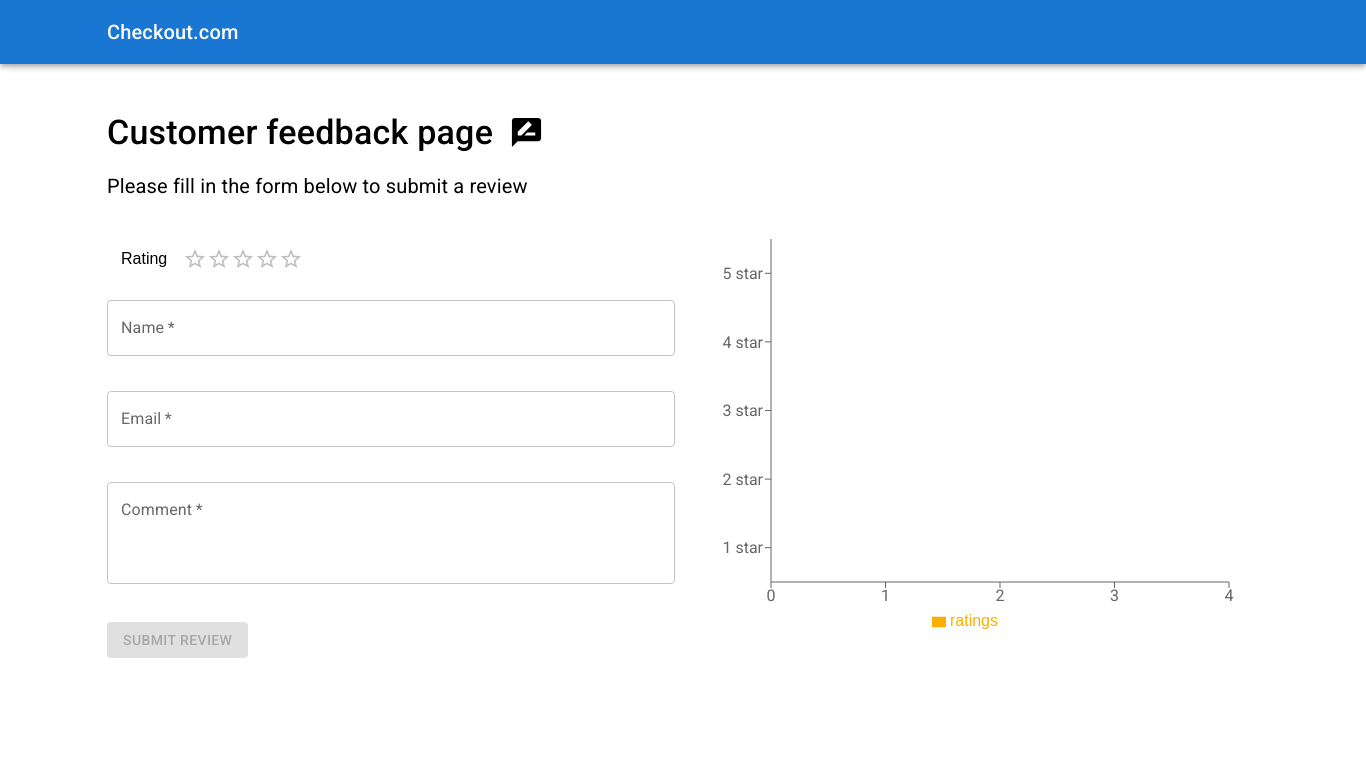
Test case: Customer Feedback Page › should be unable to add a new review on submit with invalid form
// Enter form values.
Type "a" into the field labelled "Name *" at [391, 328], box [107,300,675,356]
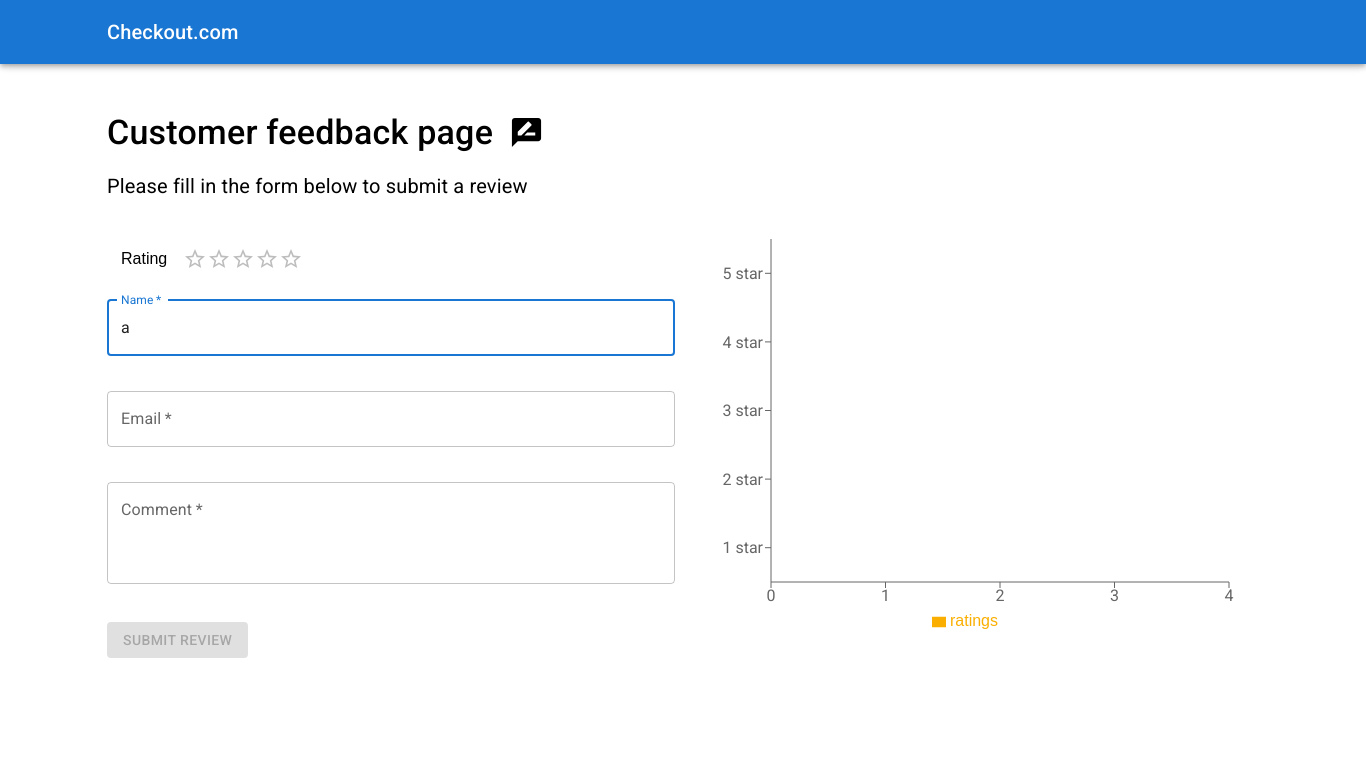
Clear the field labelled "Name *" at [391, 328], box [107,300,675,356]
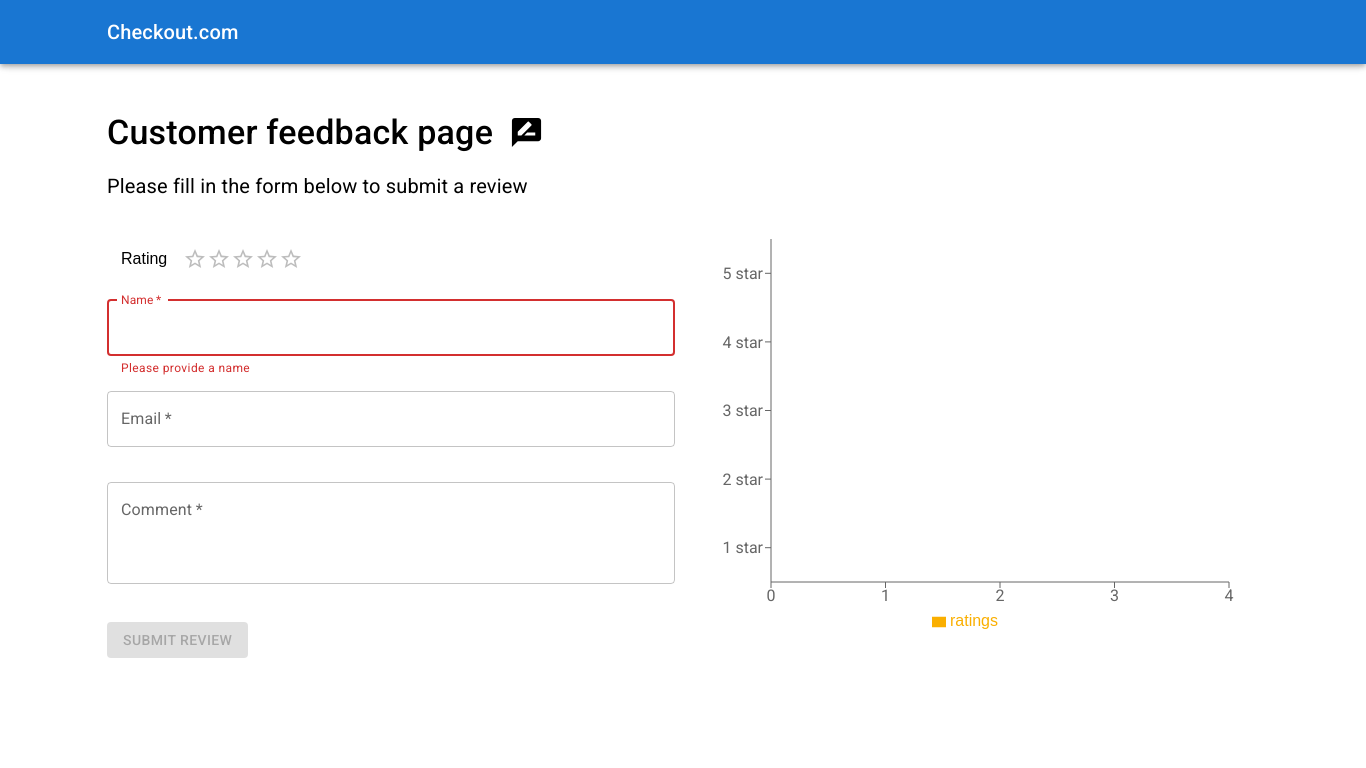
Check: the text "Please provide a name" is shown, box [121,361,250,375]
Type "a" into the field labelled "Email *" at [391, 419], box [107,391,675,447]
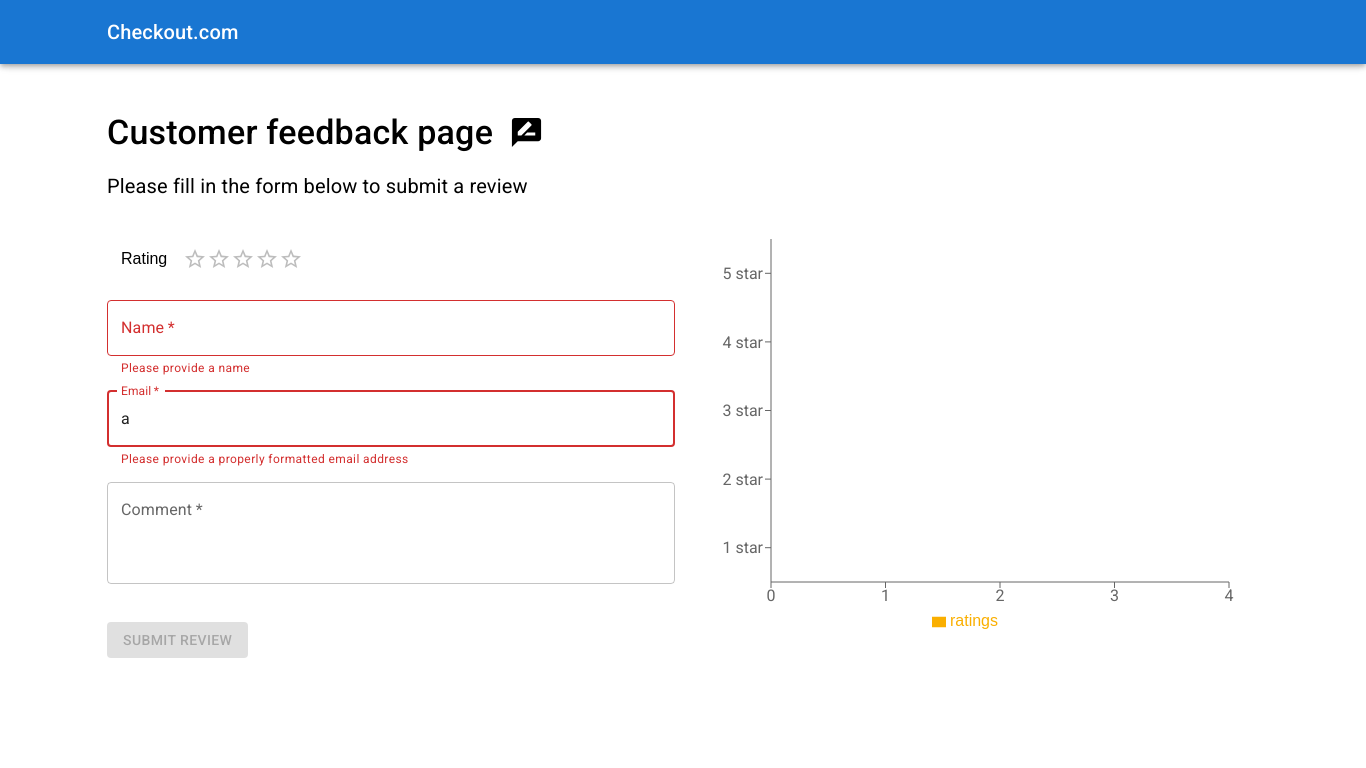
Clear the field labelled "Email *" at [391, 419], box [107,391,675,447]
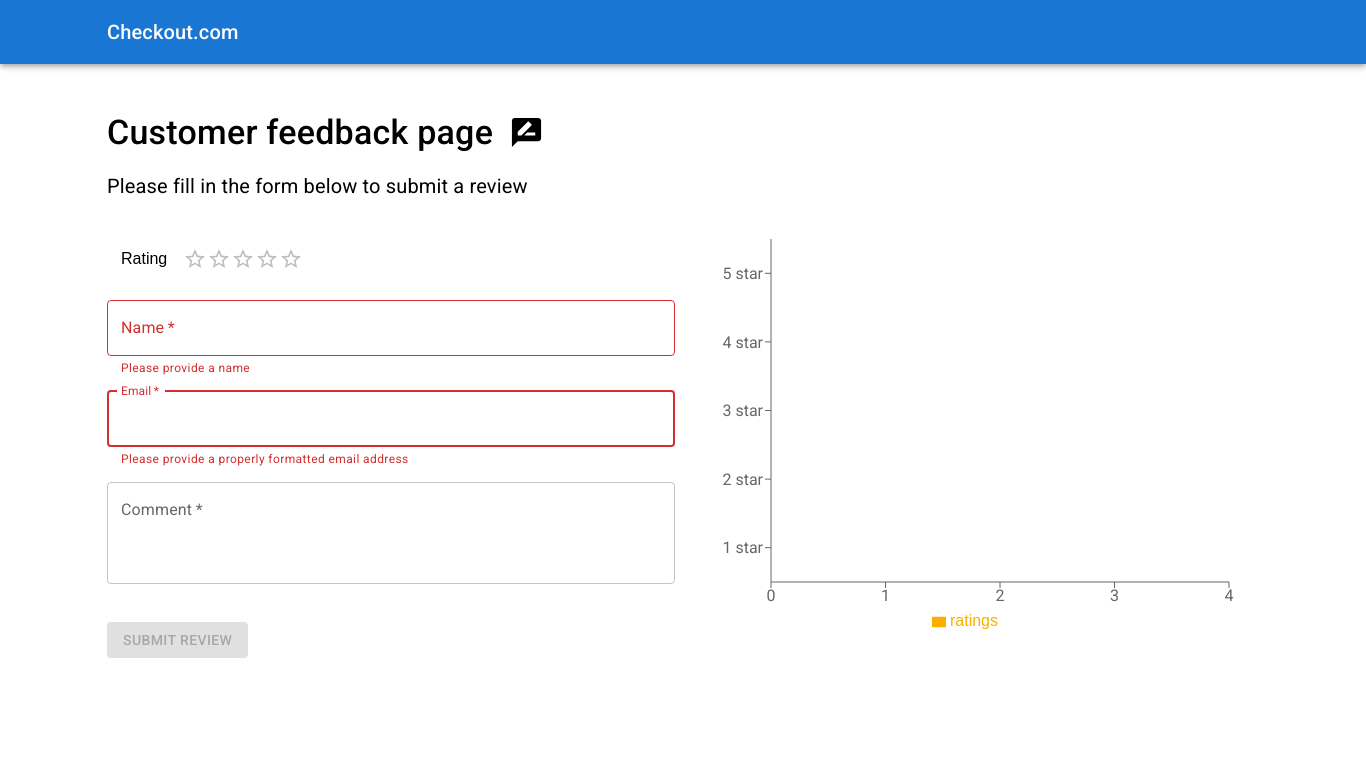
Check: the text "Please provide a properly formatted email address" is shown, box [121,452,409,466]
Type "a" into the text box labelled "Comment *" at [391, 534], box [121,499,661,568]
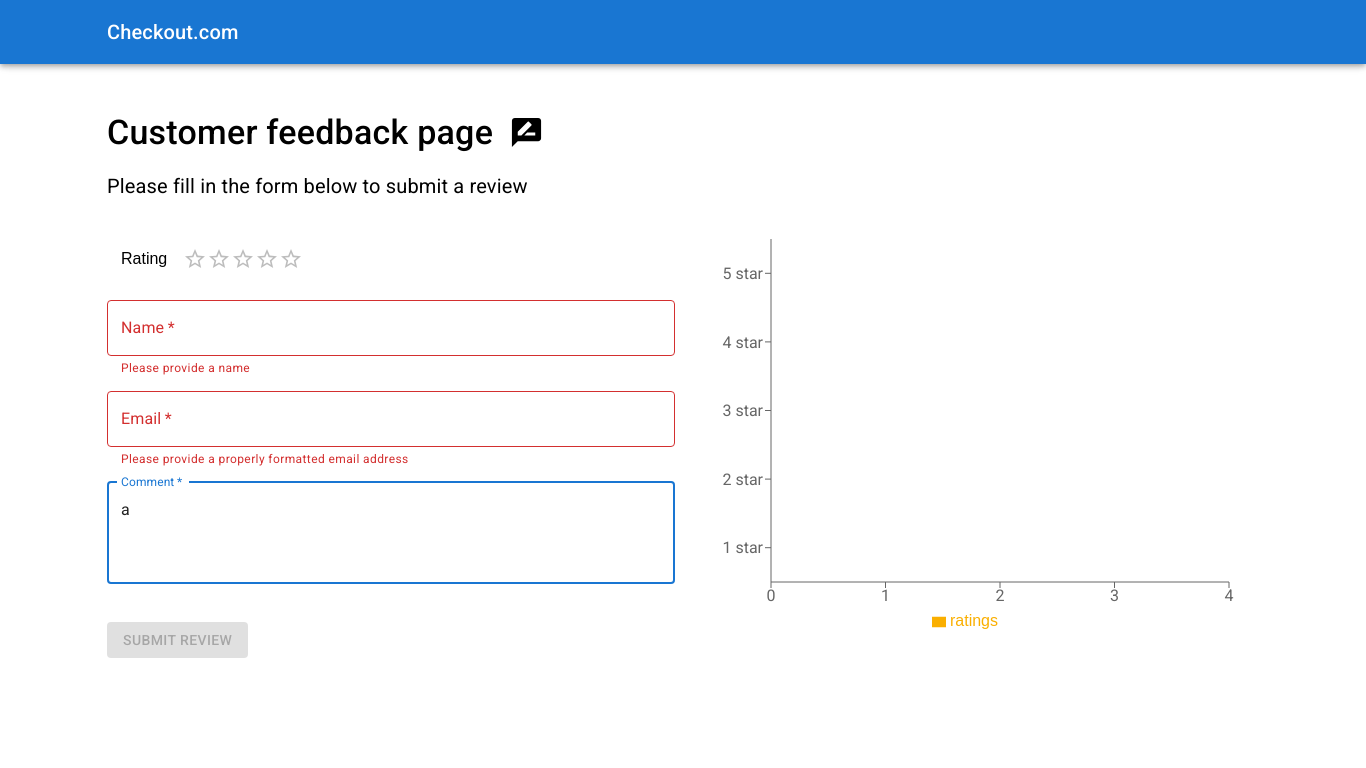
Clear the text box labelled "Comment *" at [391, 534], box [121,499,661,568]
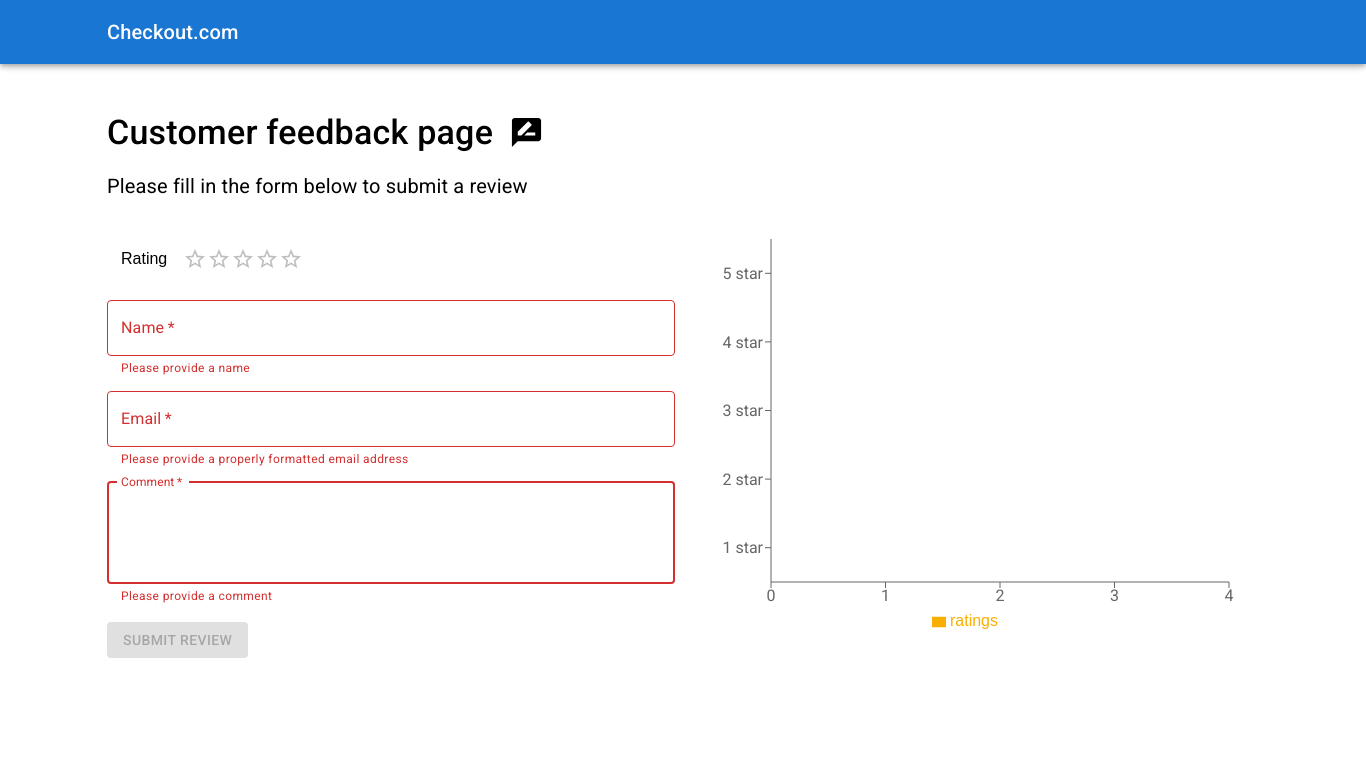
Check: the button "Submit review" is disabled, box [107,622,248,659]
Check: the text "Please provide a comment" is shown, box [121,589,272,603]
